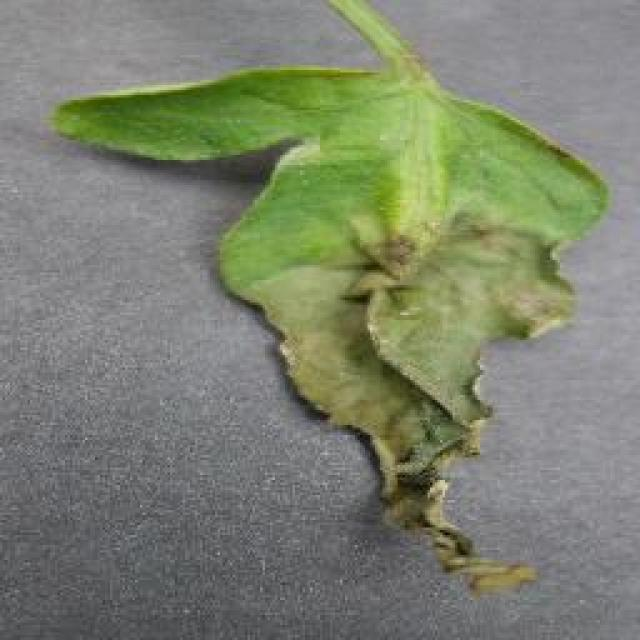Tomato___Late_blight: (52, 0, 613, 602)
